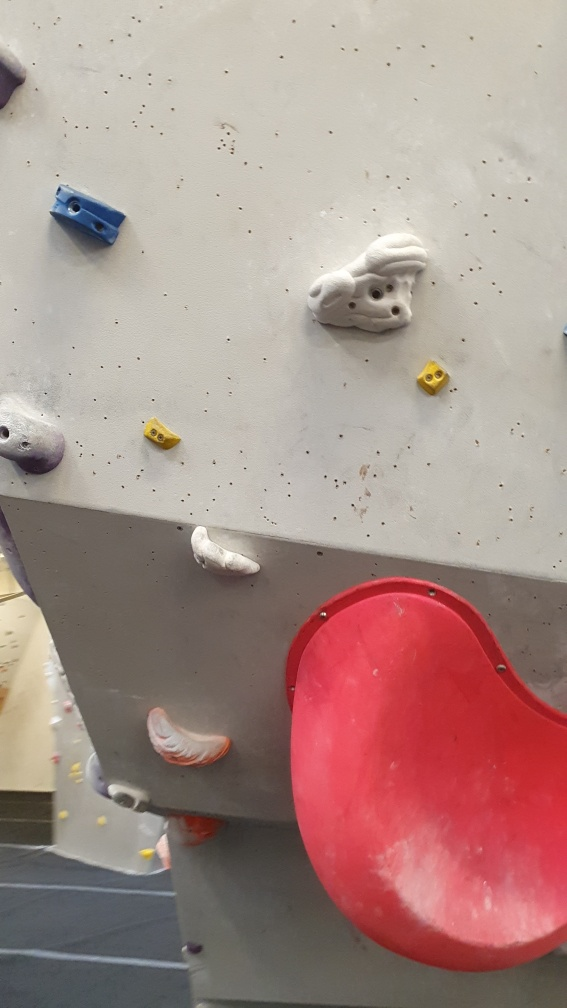Crimp: (138, 413, 190, 462)
Jug: (303, 229, 437, 338), (139, 701, 235, 773), (187, 522, 265, 581)
Pinch: (42, 180, 133, 253), (410, 360, 459, 406)
Sloper: (1, 399, 72, 480)
